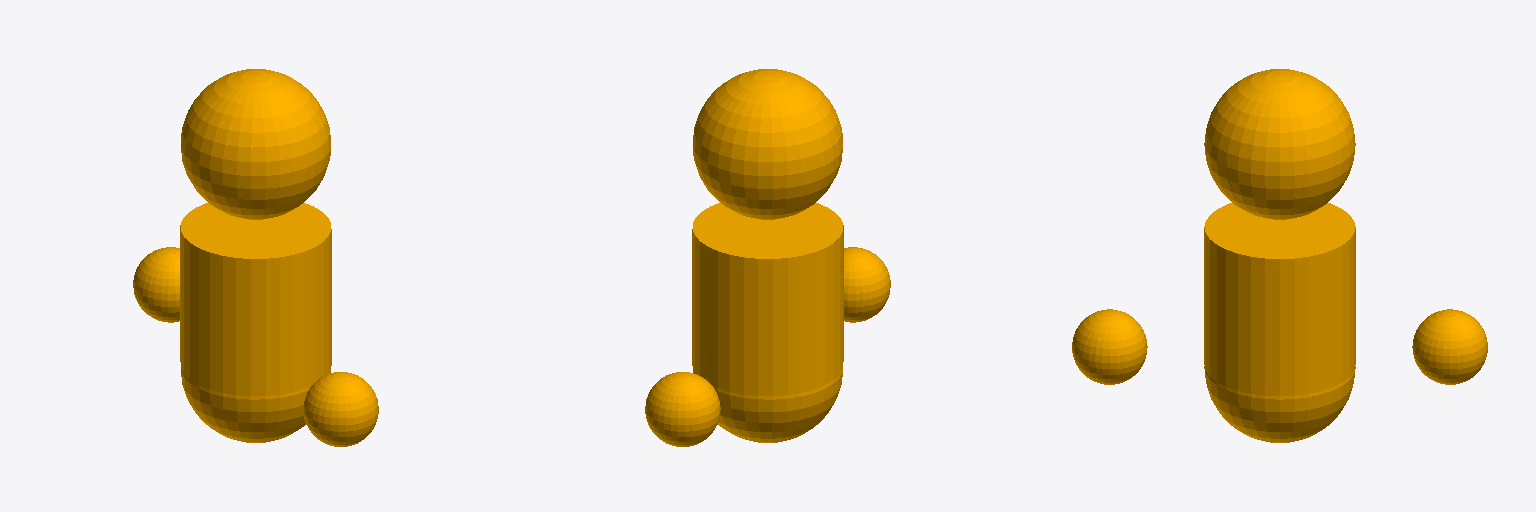
3 renders of one model, left to right at view 1: azimuth 30°, elevation 25°; view 2: azimuth 150°, elevation 25°; view 3: azimuth 270°, elevation 25°, orthographic.
Parts seen in each view (by area): view 1: Knockoff_Mii; view 2: Knockoff_Mii; view 3: Knockoff_Mii.
Part boxes in pixels (x1,y1,x2,y2): Knockoff_Mii: (133,69,378,446); Knockoff_Mii: (645,69,890,446); Knockoff_Mii: (1072,69,1487,442).
Size of the model in its own units: 2 by 5.26 by 5.5.